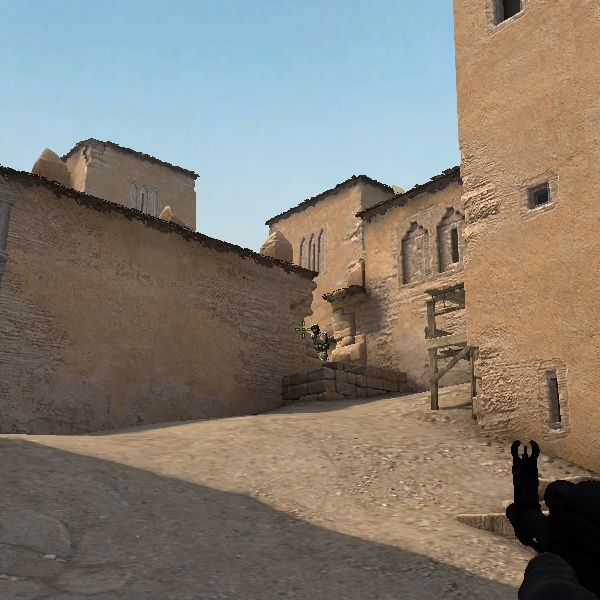ct_body: (303, 323, 332, 368)
ct_head: (308, 322, 325, 338)
